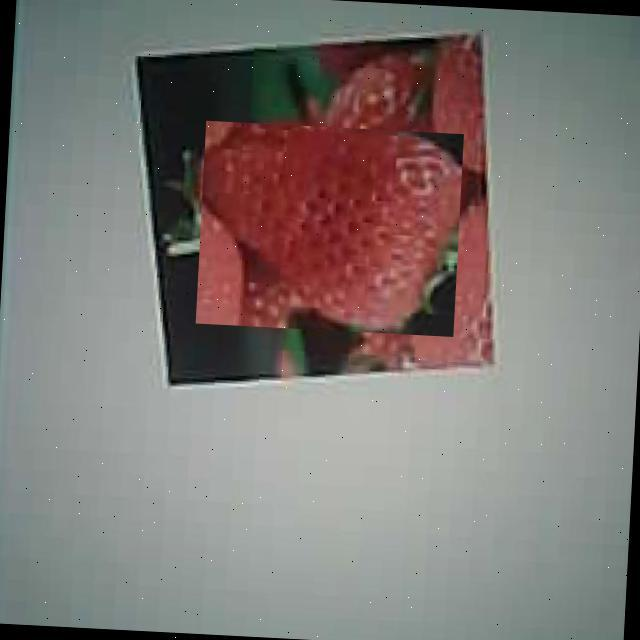ripe: (196, 121, 464, 337)
